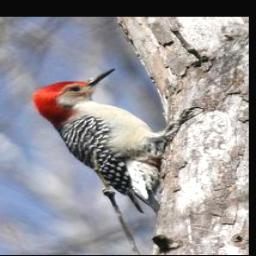Woodpecker: (25, 64, 214, 220)
